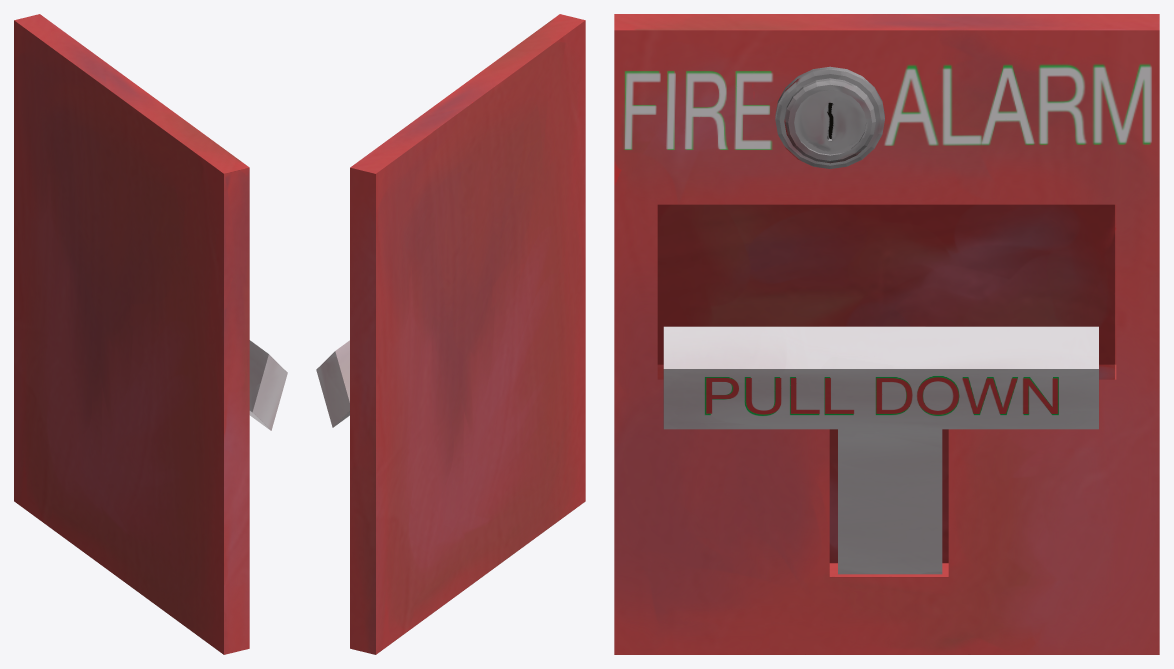
The model's file is FireAlarm.fbx.
3 views of the same model, side by side, from view 1: azimuth 30°, elevation 25°; view 2: azimuth 150°, elevation 25°; view 3: azimuth 270°, elevation 25° (orthographic). The views are drawn at different scales.
Visible parts, largest first — view 1: csw_firealarm_base, csw_firealarm_handle; view 2: csw_firealarm_base, csw_firealarm_handle; view 3: csw_firealarm_base, csw_firealarm_handle.
Boxes of the visible parts, box(x1,y1,x2,y2) form: csw_firealarm_base: box(14, 14, 249, 654); csw_firealarm_handle: box(249, 340, 287, 430); csw_firealarm_base: box(350, 14, 585, 654); csw_firealarm_handle: box(316, 340, 349, 427); csw_firealarm_base: box(614, 14, 1159, 654); csw_firealarm_handle: box(663, 326, 1098, 574).
Size of the model in its own units: 1.08 by 0.2461 by 1.36.
